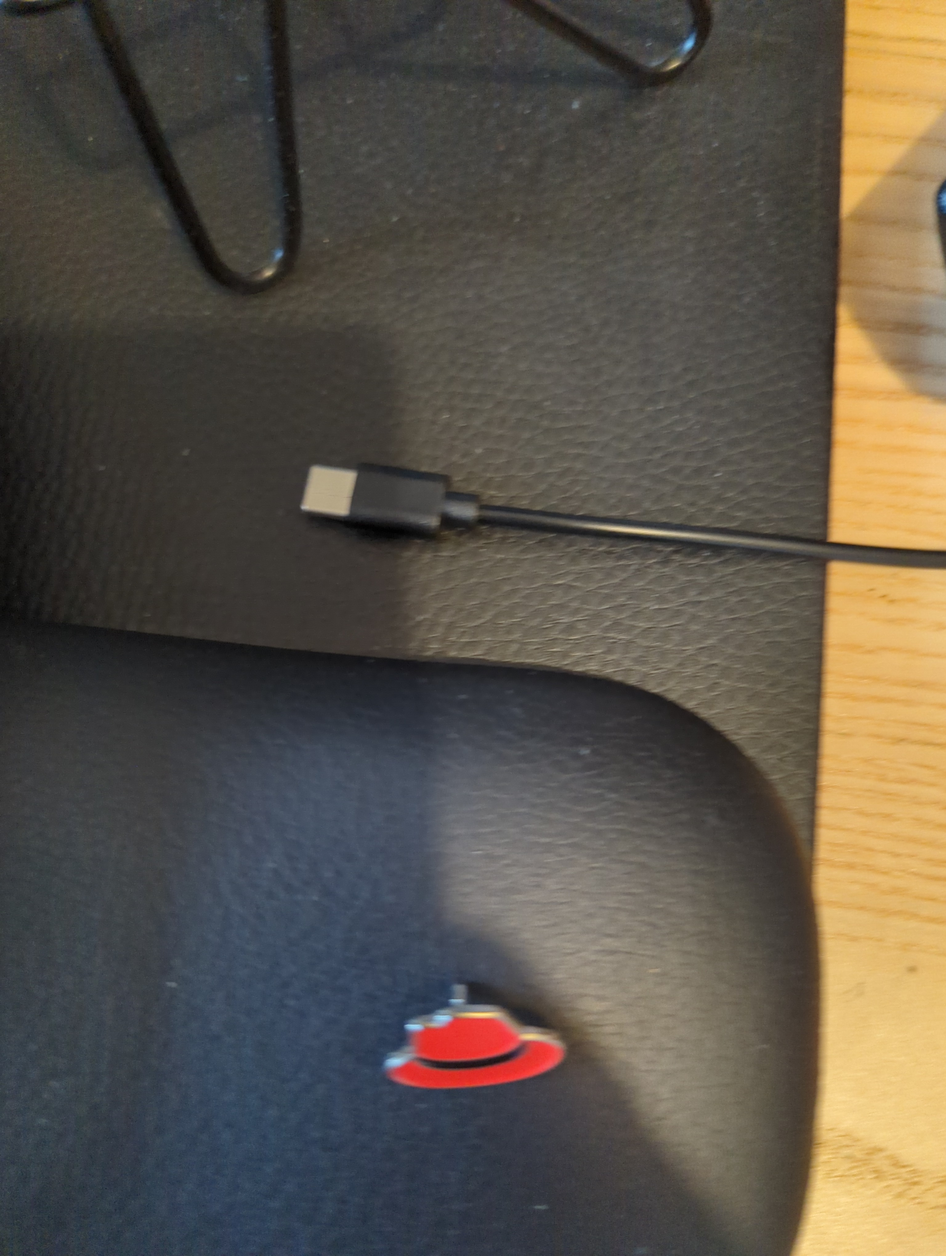Red-Hat: (327, 915, 645, 1150)
